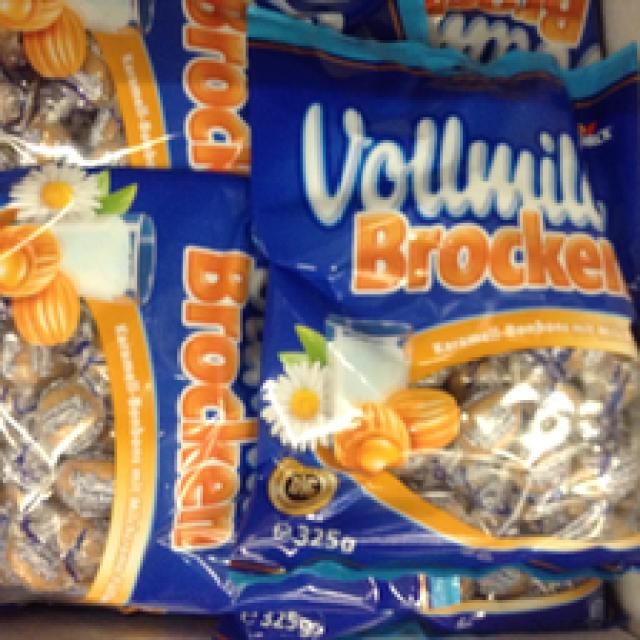groceries: (252, 57, 637, 563), (0, 169, 249, 600)
